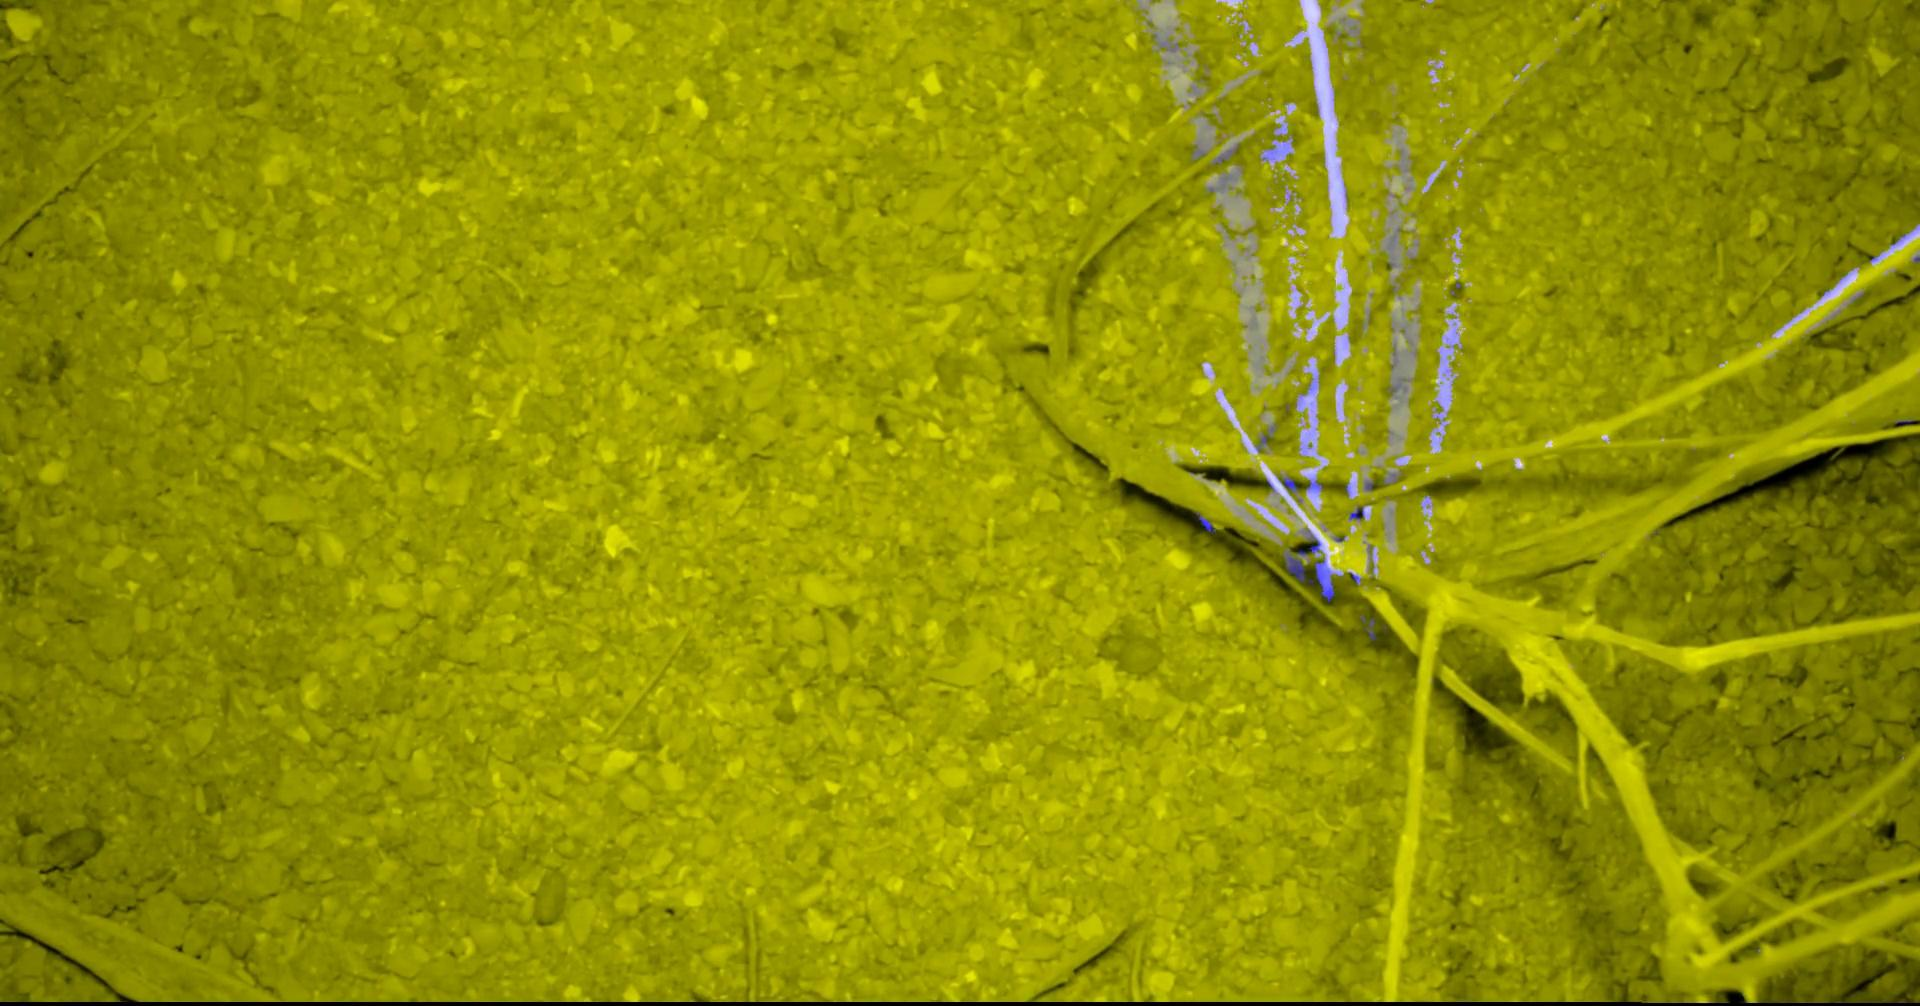ant: (1283, 556, 1335, 601), (1195, 511, 1215, 532), (1297, 539, 1319, 555), (1360, 616, 1375, 639), (1349, 506, 1363, 520), (1281, 478, 1297, 490)
